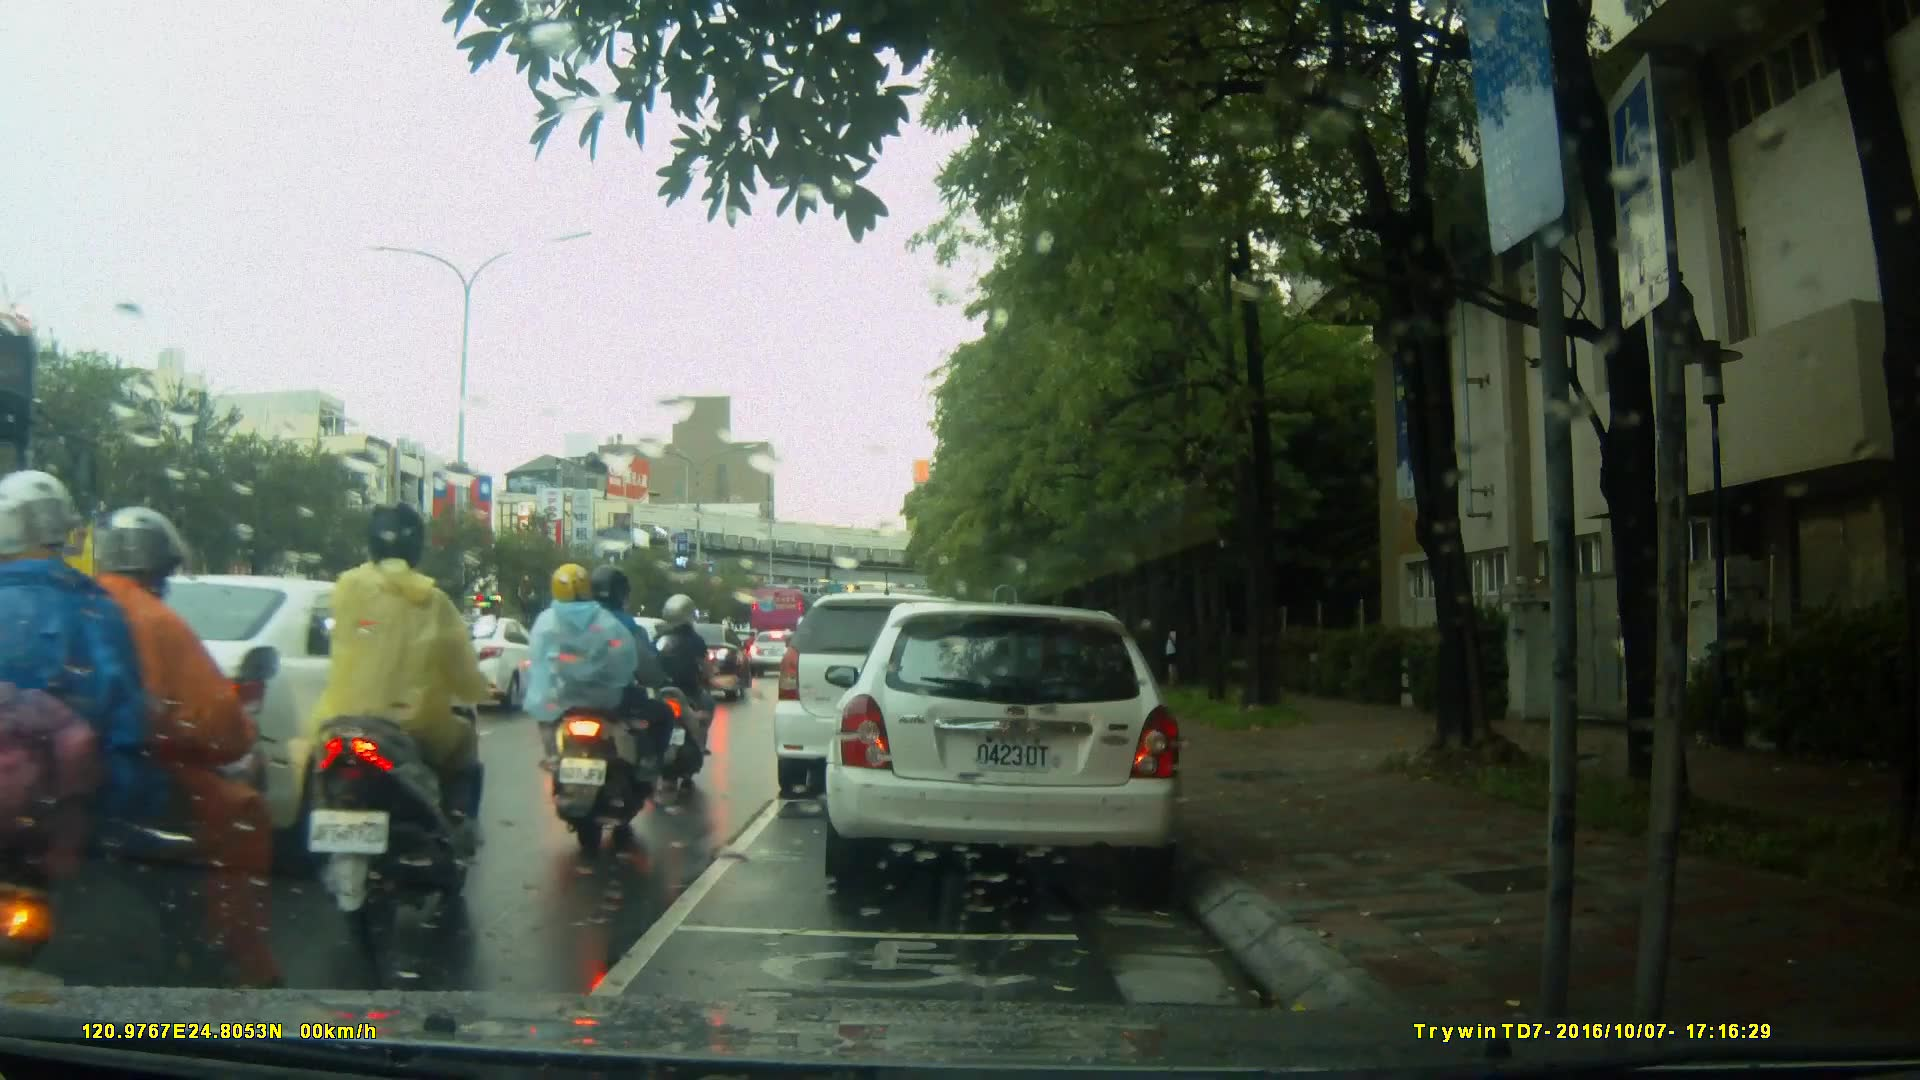rider: (1, 465, 294, 1039), (288, 495, 496, 945), (524, 559, 673, 852), (619, 590, 719, 813)
vehicle: (22, 572, 455, 837), (835, 594, 1194, 898), (776, 590, 1026, 784), (642, 625, 755, 704)
